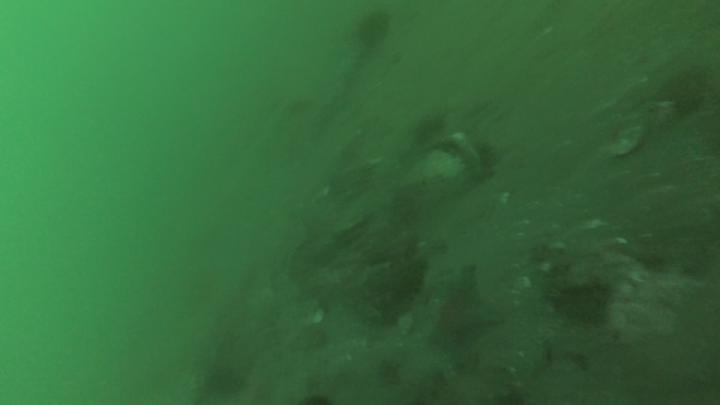echinus: (196, 360, 250, 402), (352, 8, 395, 51), (409, 110, 452, 152)
starfish: (423, 264, 504, 355)
